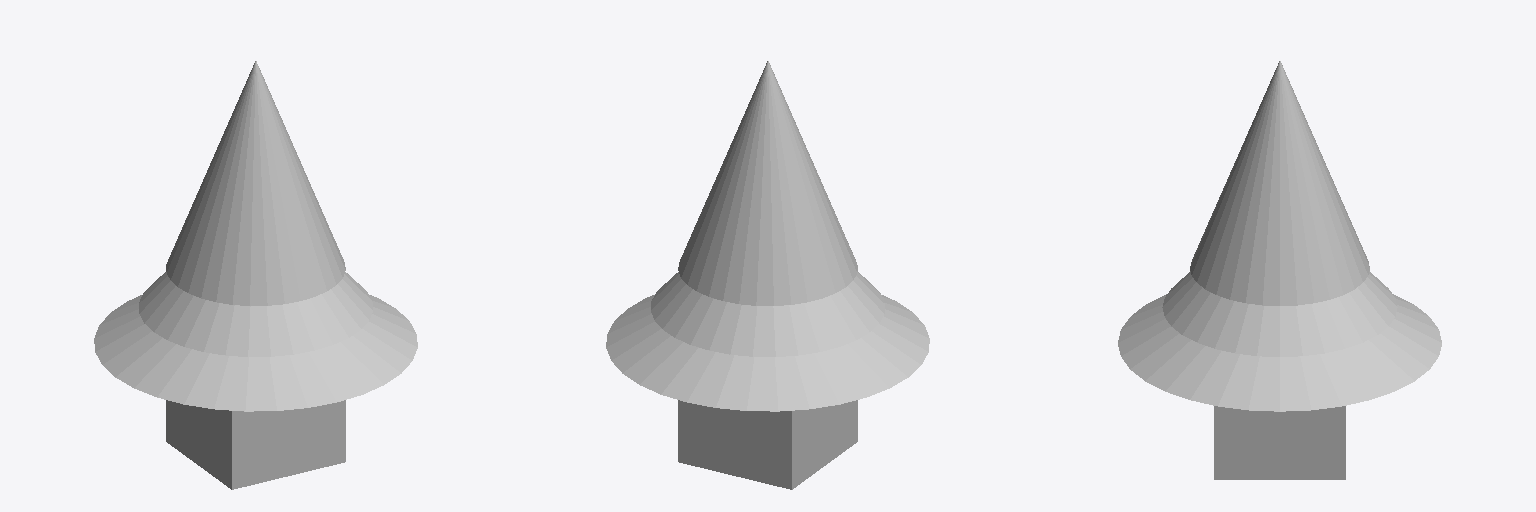
The model's file is temple.obj.
3 views of the same model, side by side, from view 1: azimuth 30°, elevation 25°; view 2: azimuth 150°, elevation 25°; view 3: azimuth 270°, elevation 25° (orthographic).
Visible parts, largest first — view 1: Cone, Cube; view 2: Cone, Cube; view 3: Cone, Cube.
Boxes of the visible parts, x1,y1,x2,y2 form: Cone: [94, 61, 417, 411]; Cube: [166, 400, 345, 489]; Cone: [606, 61, 929, 411]; Cube: [678, 400, 857, 489]; Cone: [1118, 61, 1441, 411]; Cube: [1214, 406, 1345, 479].
Bounding box in the file's own units: 15.3 × 20.41 × 15.3.